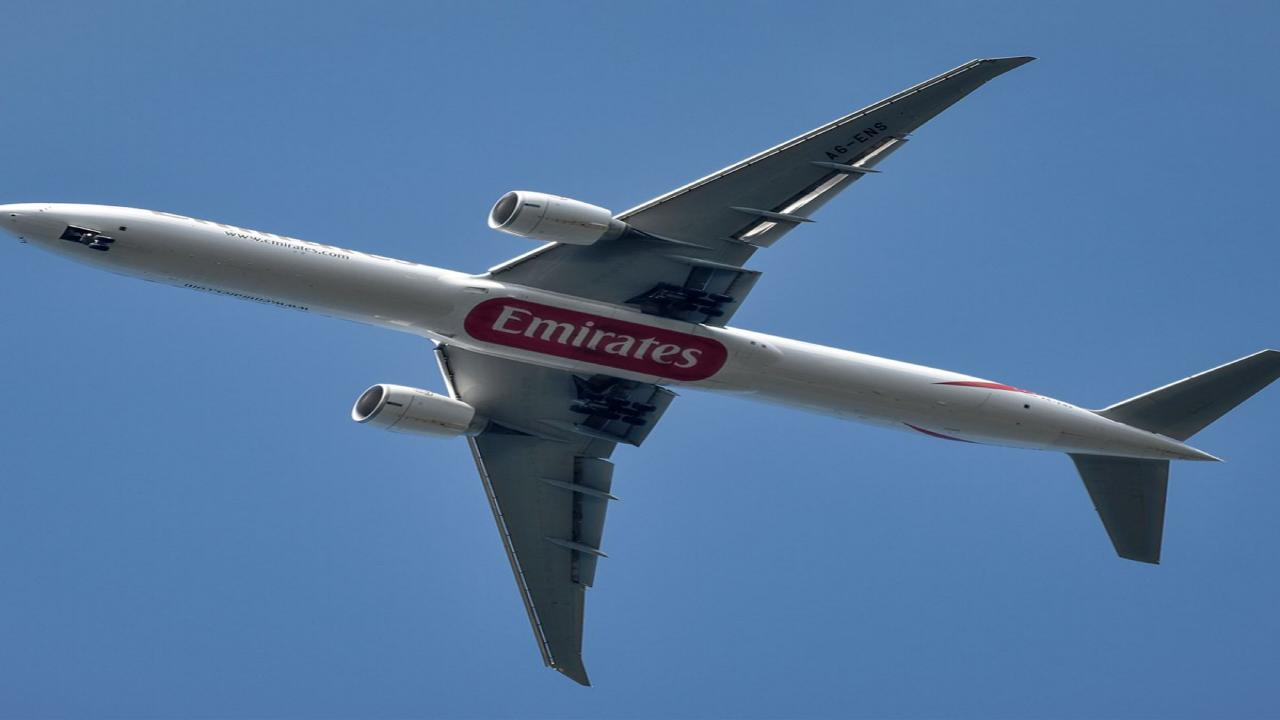Drone: (0, 36, 1280, 703)
